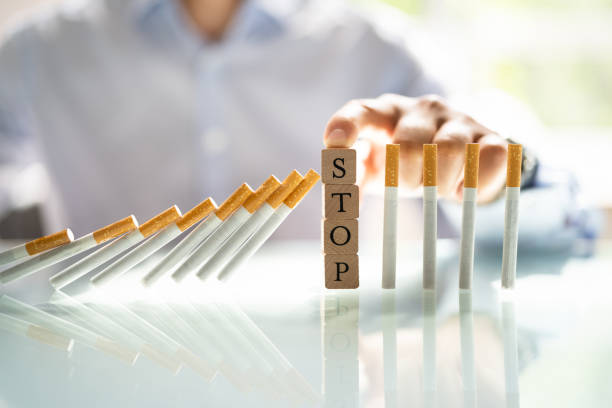cigarette: (194, 167, 306, 283), (139, 180, 256, 289), (170, 173, 282, 284), (88, 195, 219, 289), (216, 167, 322, 282), (47, 203, 183, 292), (0, 213, 140, 287), (499, 142, 524, 291), (379, 142, 401, 292), (458, 142, 480, 291), (0, 227, 75, 267), (421, 142, 438, 290)
